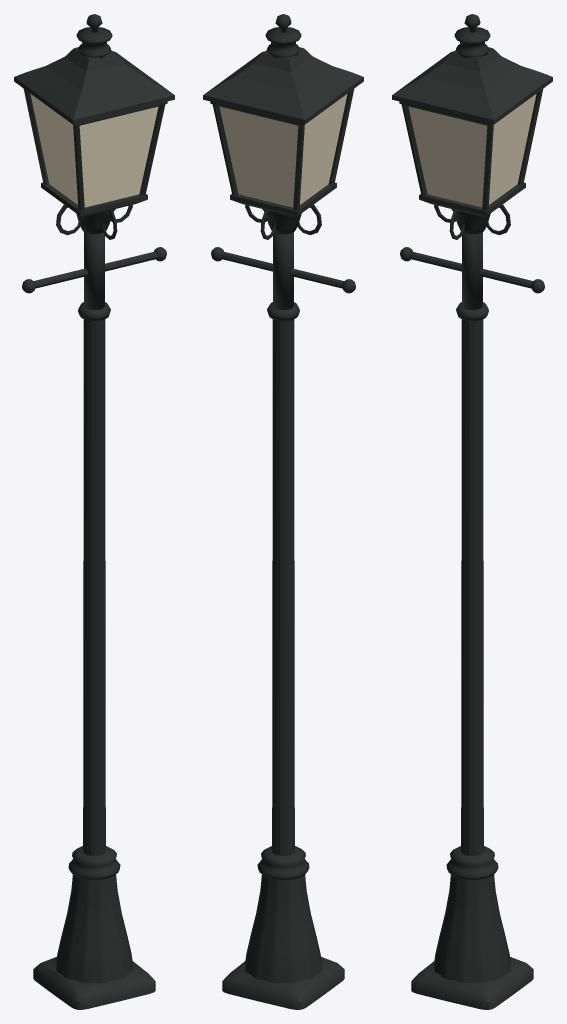
Rendered from streetLamp.glb.
3 views of the same model, side by side, from view 1: azimuth 30°, elevation 25°; view 2: azimuth 150°, elevation 25°; view 3: azimuth 330°, elevation 25° (orthographic).
Visible parts, largest first — view 1: streetLamp; view 2: streetLamp; view 3: streetLamp.
Part boxes in pixels (x1,y1,x2,y2): streetLamp: [14, 14, 174, 1009]; streetLamp: [203, 14, 363, 1009]; streetLamp: [392, 14, 552, 1009].
Bounding box in the file's own units: 0.6542 × 4.24 × 0.466.
